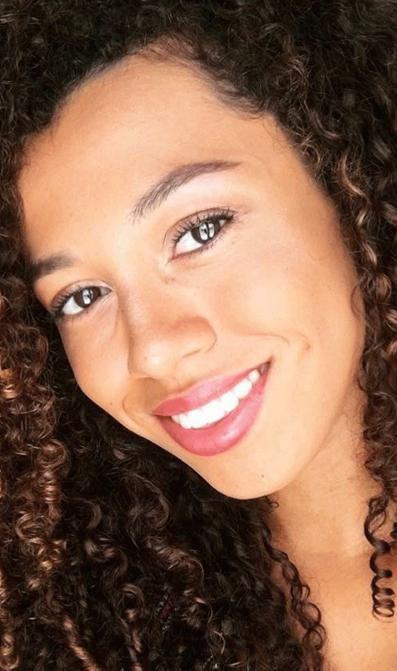Sober: (26, 107, 320, 481)
